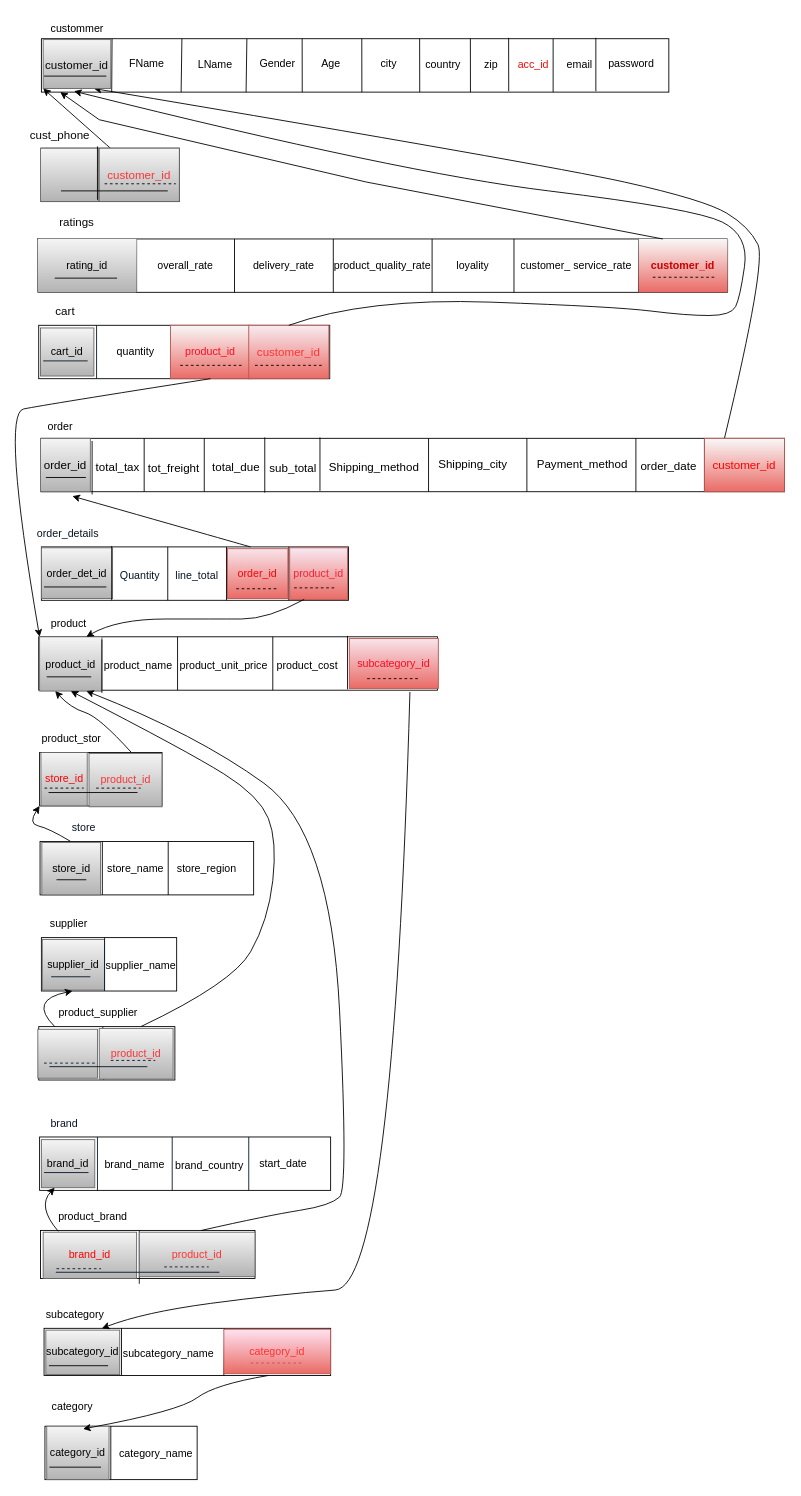
Image size: 801x1496. Some labels were removed from this diagram. The shapes that lost their labels are listed below. From the top down, each one's centre as x and y in pixels, then its label:
(69,174): phone
(67,1053): sup_id
